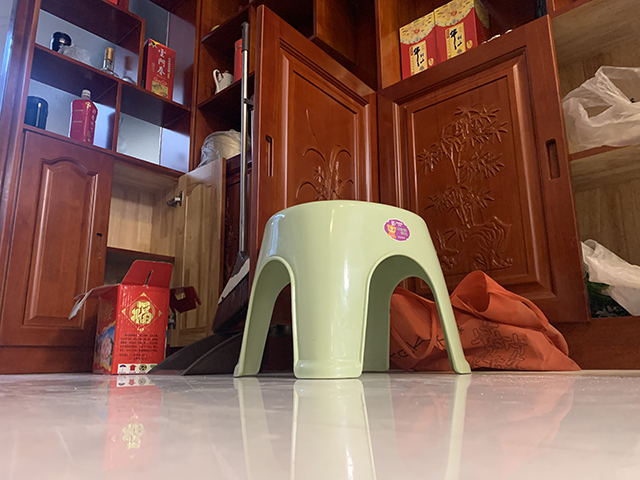cabinet: (374, 5, 640, 361), (1, 123, 213, 374)
stool: (234, 198, 471, 379)
